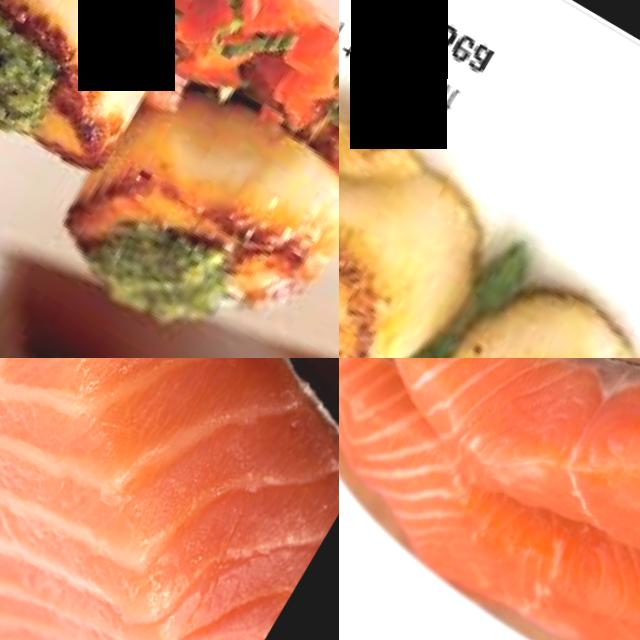salmon: (0, 358, 339, 640), (339, 384, 640, 640), (371, 358, 640, 640)
sea scallops: (90, 60, 339, 308), (339, 65, 497, 358), (382, 248, 640, 358), (0, 0, 177, 89)
